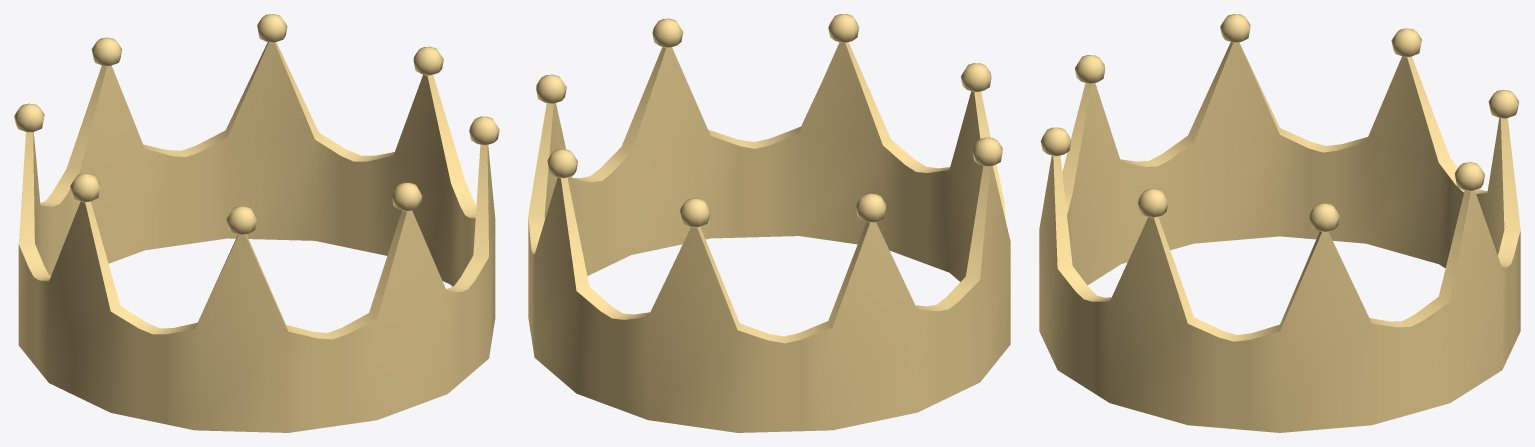
File: crown.glb
3 renders of one model, left to right at view 1: azimuth 30°, elevation 25°; view 2: azimuth 150°, elevation 25°; view 3: azimuth 270°, elevation 25°, orthographic.
Visible parts, largest first — view 1: Crown; view 2: Crown; view 3: Crown.
Boxes of the visible parts, left/top/right/bottom form: Crown: left=14, top=14, right=499, bottom=432; Crown: left=528, top=14, right=1010, bottom=432; Crown: left=1039, top=14, right=1520, bottom=432.
Size of the model in its own units: 3.61 by 1.83 by 3.61.
Materials: 1 (1 with a texture image).
